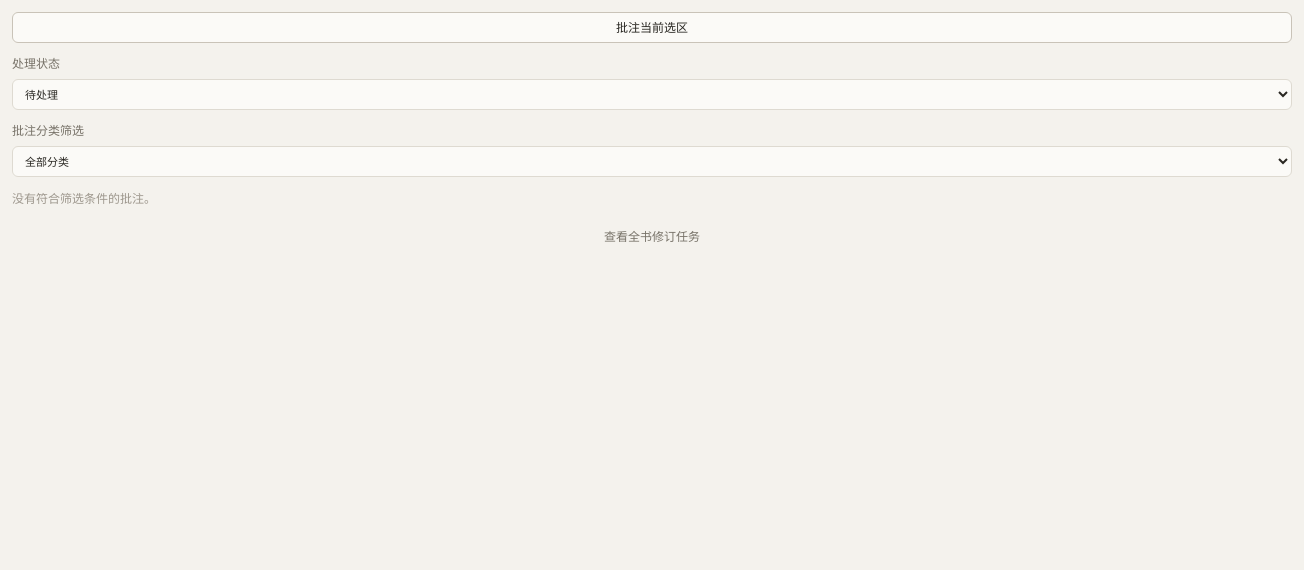
Test: retains a comment draft and blocks creation if its captured source has changed
Click the button "批注当前选区" at x=652, y=28, box [12,12,1292,43]
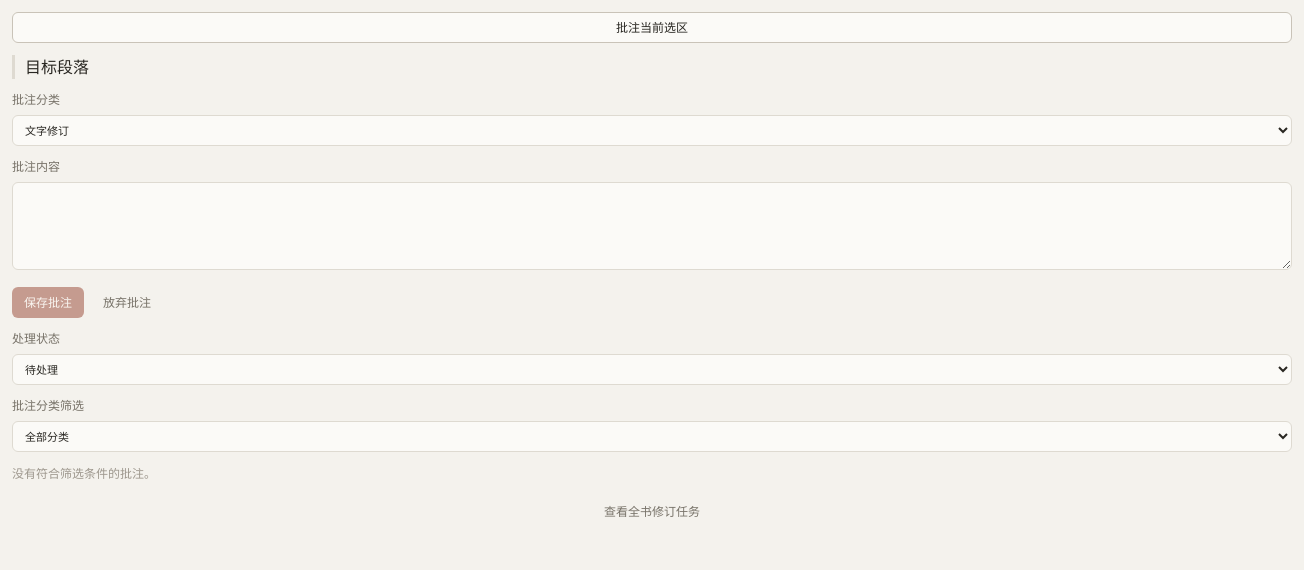
Type "保留我的批注" into the text box labelled "批注内容" at x=652, y=226, box [12,182,1292,270]
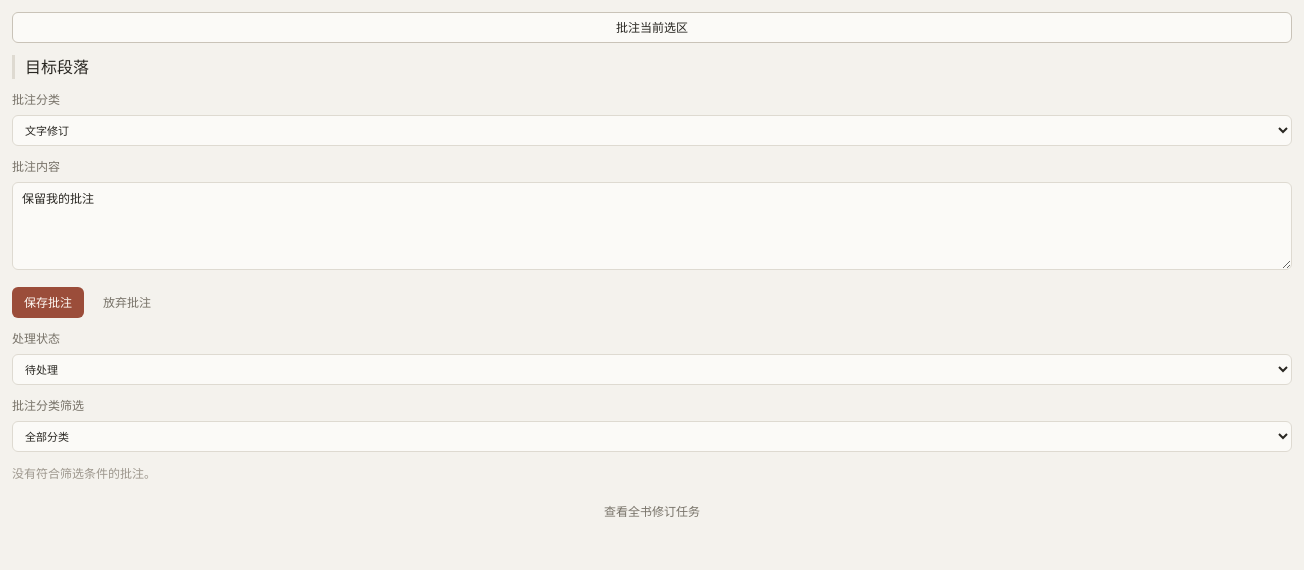
Click the button "保存批注" at x=48, y=302, box [12,287,84,318]
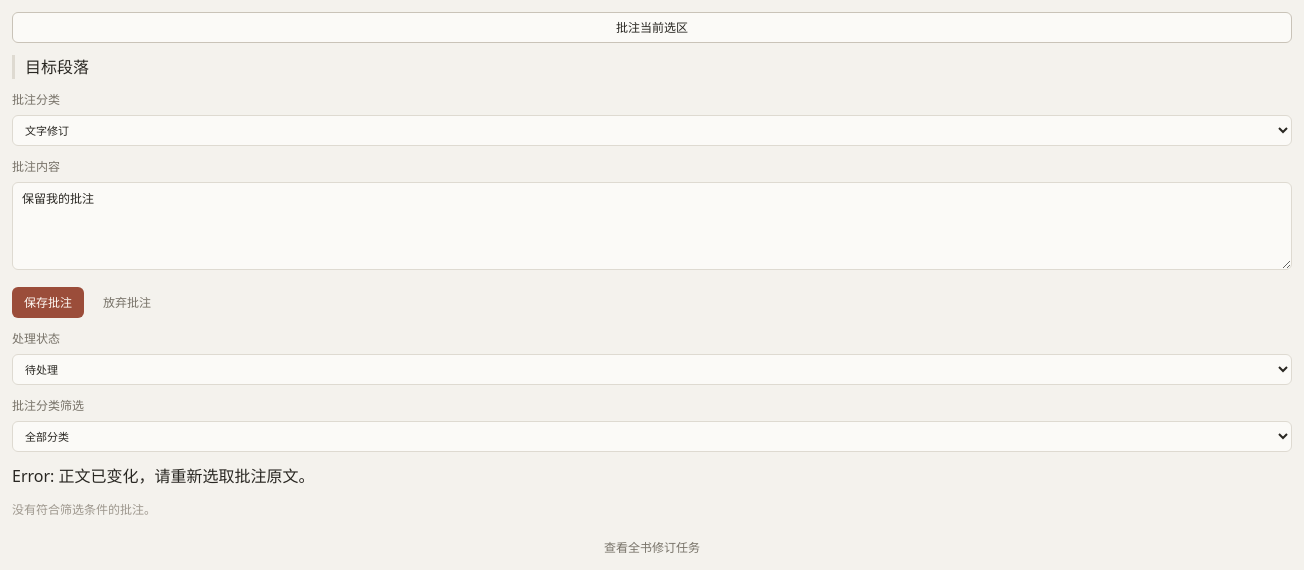
Check: the message "Error: 正文已变化，请重新选取批注原文。" is shown, box [12,465,314,487]
